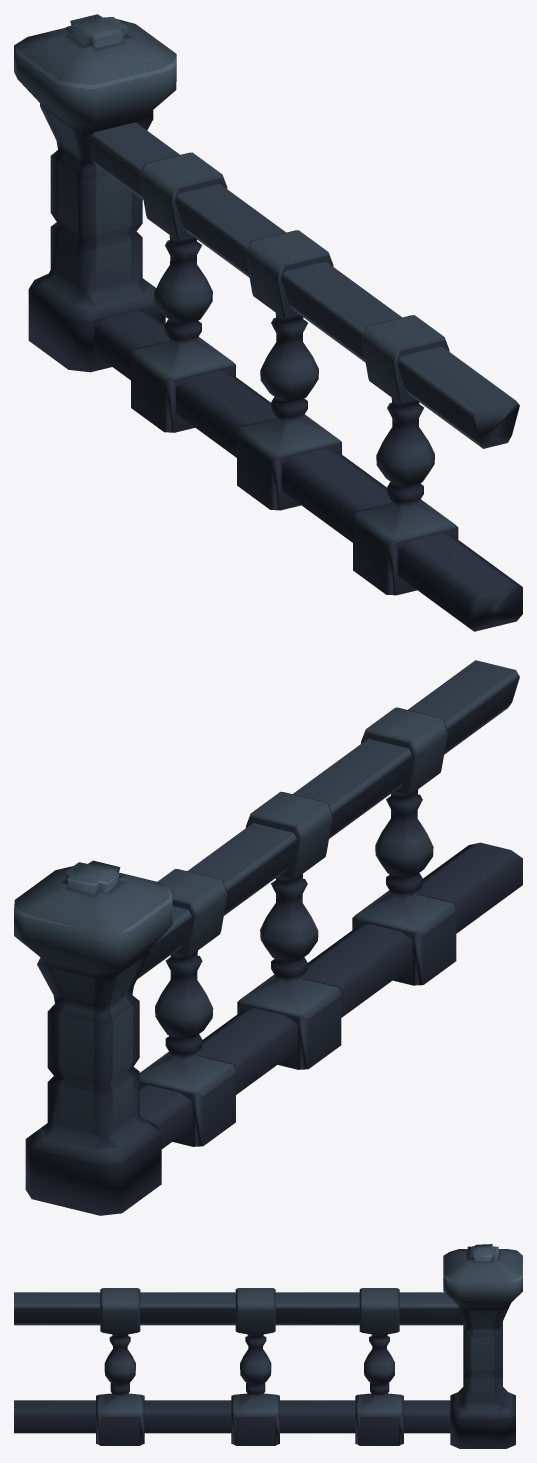
The model's file is Modular_Dungeon_Railing_Horizontal_Side.fbx.
3 views of the same model, one above another, from view 1: azimuth 30°, elevation 25°; view 2: azimuth 150°, elevation 25°; view 3: azimuth 270°, elevation 25° (orthographic). The views are drawn at different scales.
Parts seen in each view (by area): view 1: Railing_Horizontal_Side; view 2: Railing_Horizontal_Side; view 3: Railing_Horizontal_Side.
Boxes of the visible parts, left/top/right/bottom form: Railing_Horizontal_Side: left=14, top=14, right=522, bottom=631; Railing_Horizontal_Side: left=14, top=660, right=522, bottom=1215; Railing_Horizontal_Side: left=14, top=1244, right=522, bottom=1448.
Size of the model in its own units: 0.9727 by 2.51 by 6.22.
Materials: 1 (1 with a texture image).
